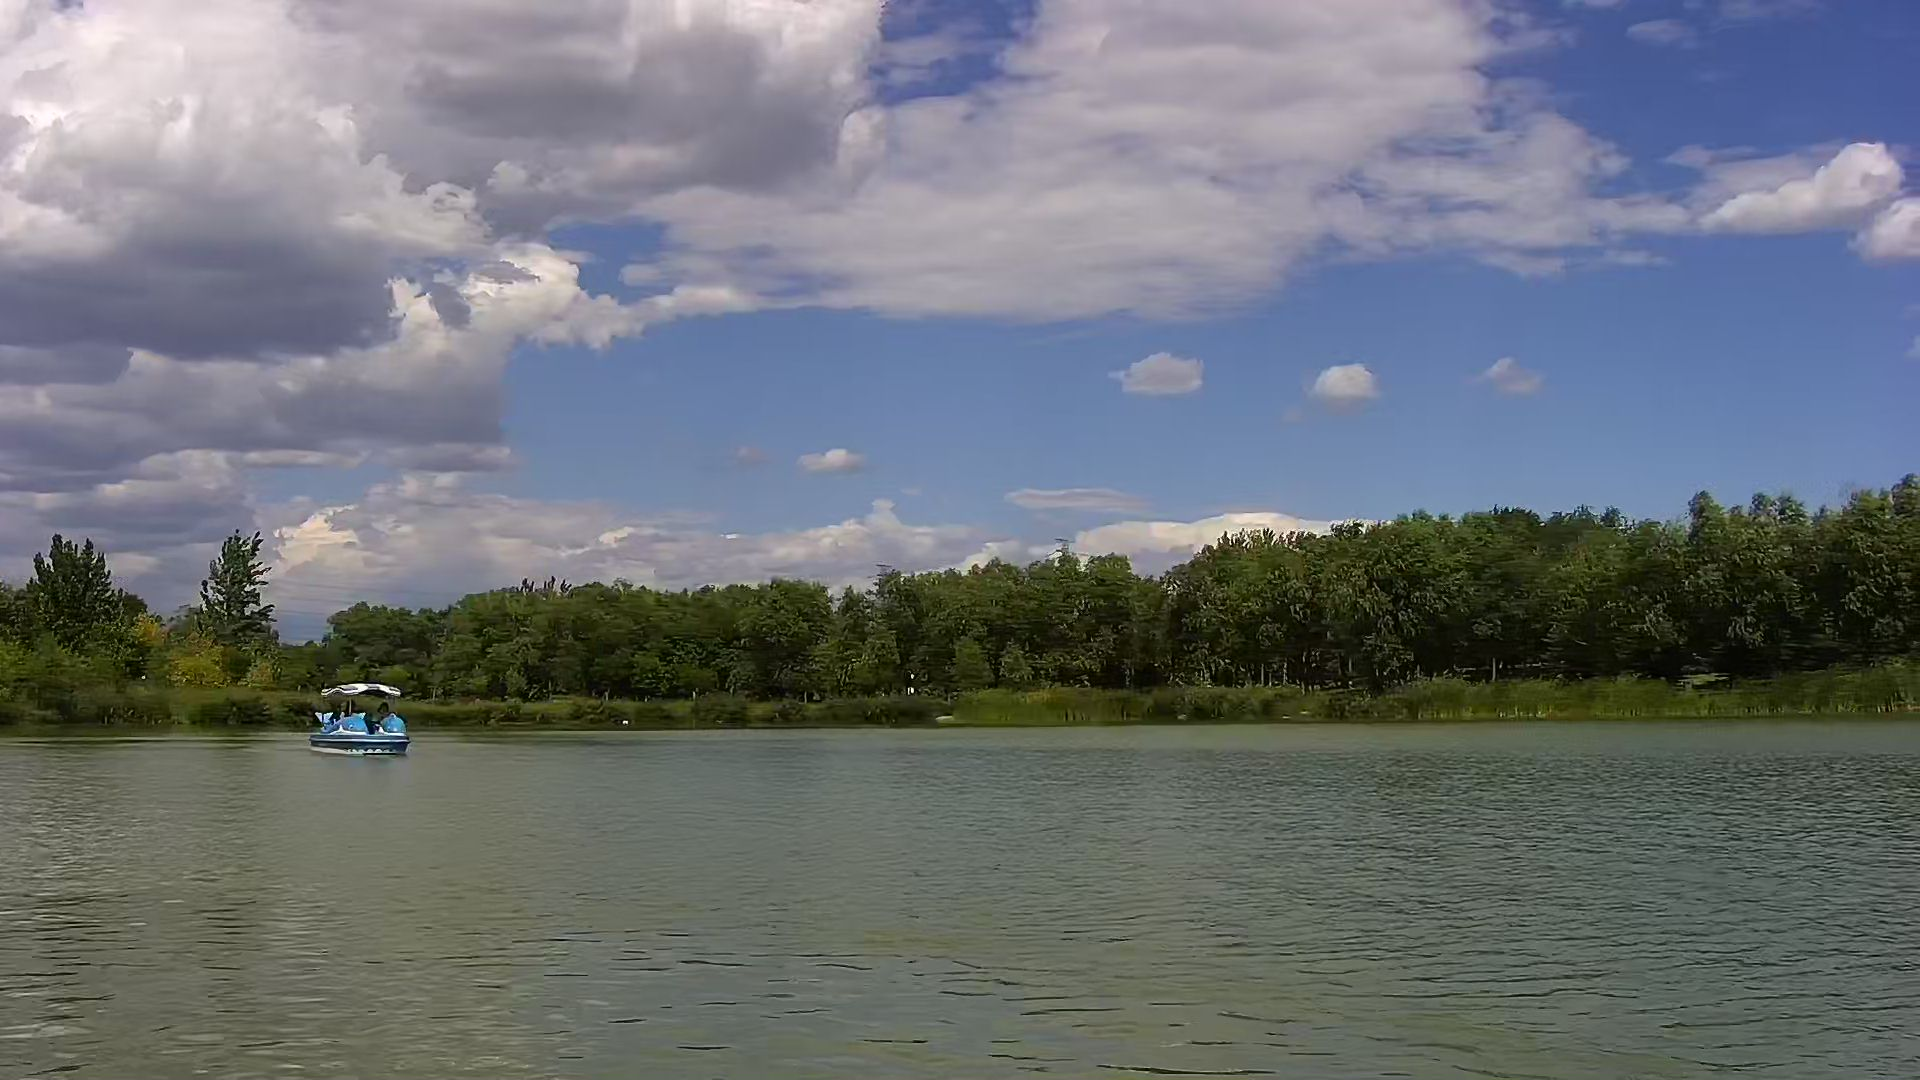boat: (305, 680, 411, 764)
